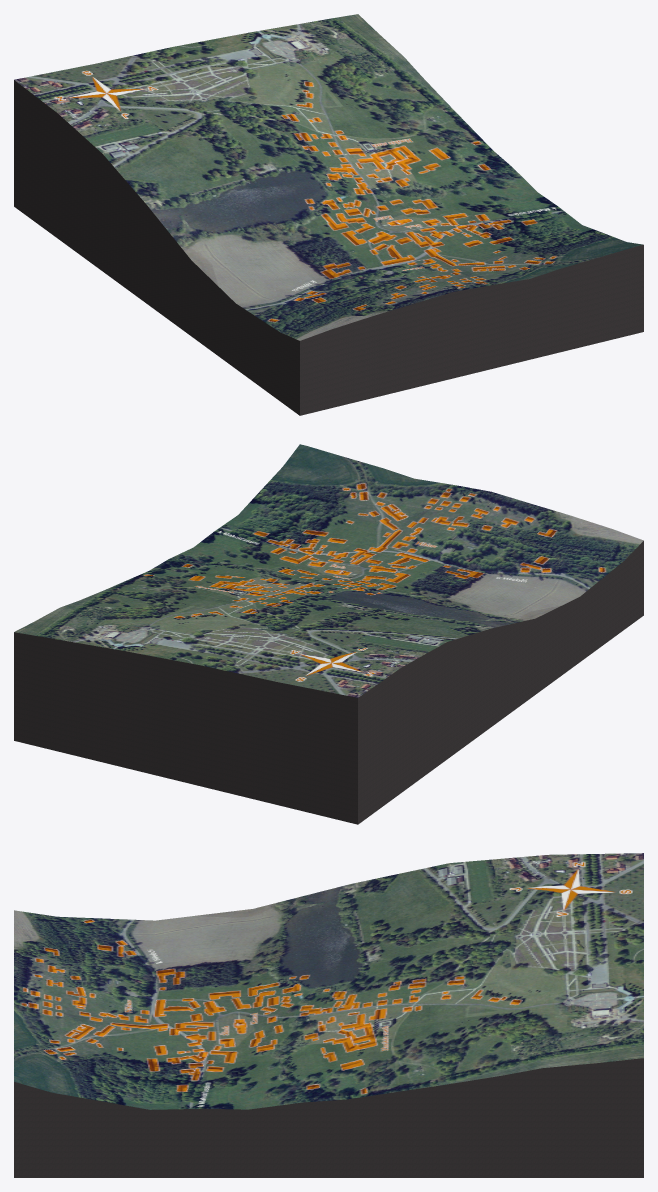
Rendered from lidice.glb.
3 views of the same model, one above another, from view 1: azimuth 30°, elevation 25°; view 2: azimuth 150°, elevation 25°; view 3: azimuth 270°, elevation 25° (orthographic). The views are drawn at different scales.
Size of the model in its own units: 0.4865 by 0.1714 by 0.7003.
2 materials, 2 textured.
